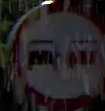No overtake: (8, 0, 104, 105)
